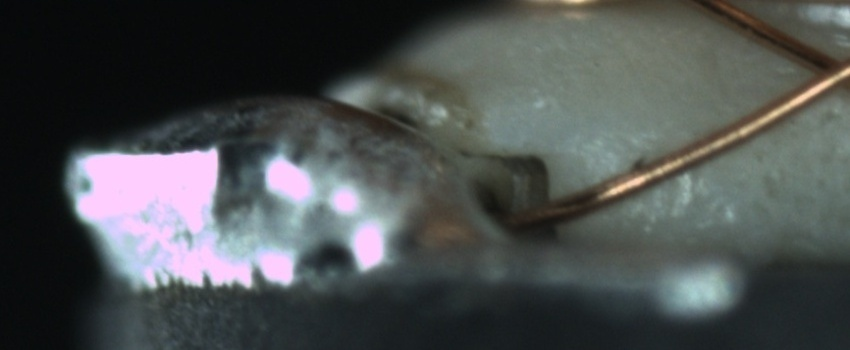CL: (780, 36, 850, 107)
